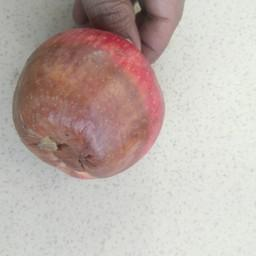Bad_apple: (10, 24, 165, 183)
